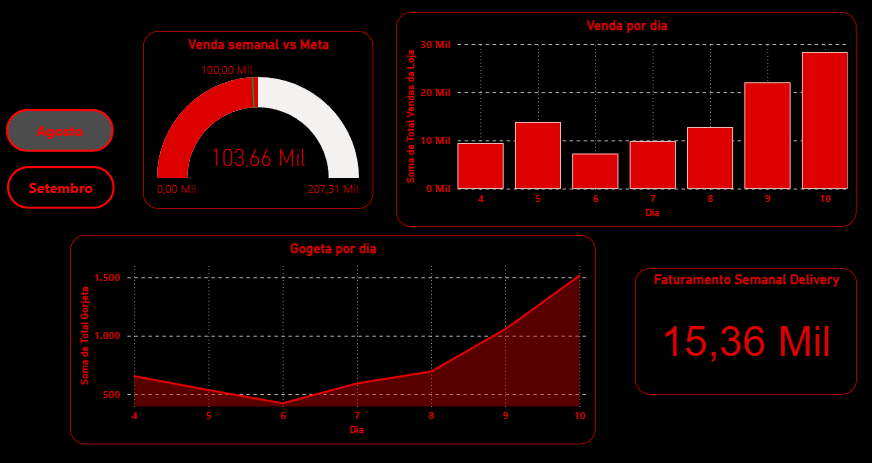

What the dashboard file says about the page in this screenshot:
{"tool":"powerbi","page":{"name":"Semana 1 de Agosto","canvas":[1280,720],"ordinal":0},"visuals":[{"type":"gauge","title":"Venda semanal vs Meta","fields":{"Y":["Sum(Semana1 Ago.Total Vendas da Loja)"]},"box":[222.6,91.1,328.6,253.9],"z":0},{"type":"clusteredColumnChart","title":"Venda por dia","fields":{"Y":["Sum(Semana1 Ago.Total Vendas da Loja)"],"Category":["Semana1 Ago.Data.Variation.Hierarquia de datas.Dia"]},"box":[584.6,63.8,658.5,307.4],"z":1000},{"type":"areaChart","title":"Gogeta por dia","fields":{"Y":["Sum(Semana1 Ago.Total Gorjeta)"],"Category":["Semana1 Ago.Data.Variation.Hierarquia de datas.Dia"]},"box":[119.3,383,750.9,299],"z":2000},{"type":"card","title":"Faturamento Semanal Delivery","fields":{"Values":["Sum(Semana1 Ago.Faturado Delivery)"]},"box":[925.6,430,317.5,181.4],"z":3000},{"type":"image","box":[15.1,26.9,208.3,174.7],"z":4000},{"type":"actionButton","box":[28.4,283.8,153.9,61.2],"z":5000},{"type":"actionButton","box":[26.9,203.2,153.9,61.2],"z":6000}]}

Visuals, with their boxes on the page's 1280x720 design canvas (x1, y1, x2, y2). These are canvas units, not pixel positions in the 872x463 screenshot, which may show the page scaled, cropped or inside an application window:
"Venda semanal vs Meta" gauge: Rect(223, 91, 551, 345)
"Venda por dia" clusteredColumnChart: Rect(585, 64, 1243, 371)
"Gogeta por dia" areaChart: Rect(119, 383, 870, 682)
"Faturamento Semanal Delivery" card: Rect(926, 430, 1243, 611)
image: Rect(15, 27, 223, 202)
actionButton: Rect(28, 284, 182, 345)
actionButton: Rect(27, 203, 181, 264)
